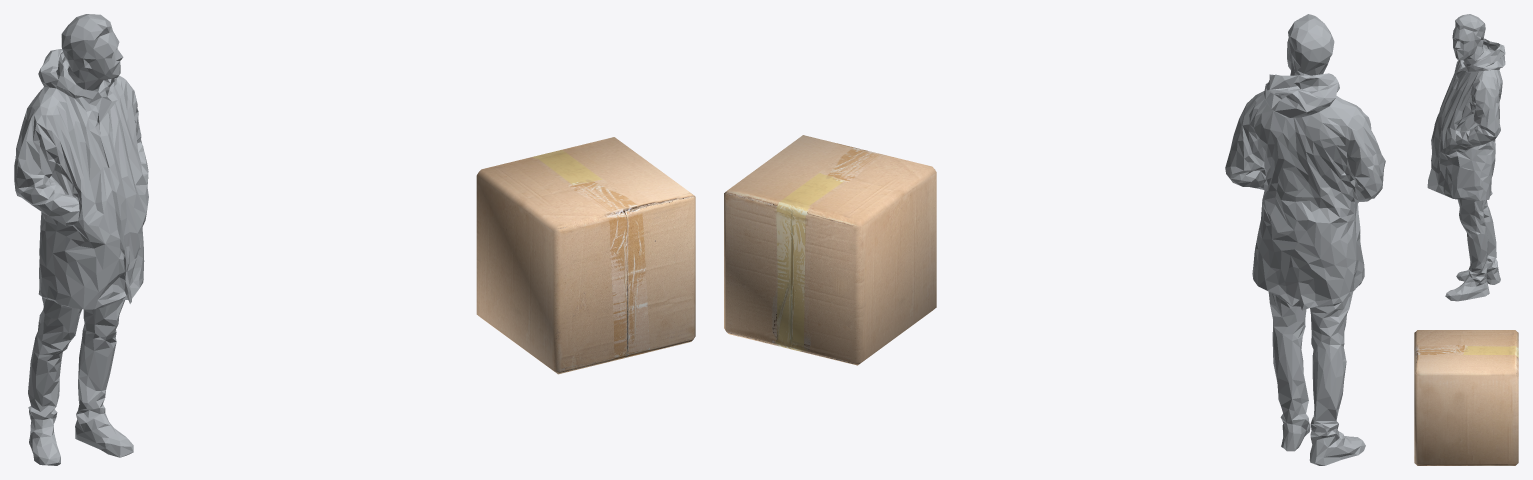
The model's file is cardboard_box_01.glb.
3 renders of one model, left to right at view 1: azimuth 30°, elevation 25°; view 2: azimuth 150°, elevation 25°; view 3: azimuth 270°, elevation 25°, orthographic. The views are drawn at different scales.
Visible parts, largest first — view 1: Box_Material.001_0, Lowpoly Male Standing; view 2: Box_Material.001_0, Lowpoly Male Standing; view 3: Box_Material.001_0, Lowpoly Male Standing.
Part boxes in pixels (x1,y1,x2,y2): Box_Material.001_0: [476, 137, 695, 374]; Lowpoly Male Standing: [14, 14, 148, 465]; Box_Material.001_0: [724, 135, 936, 365]; Lowpoly Male Standing: [1225, 14, 1385, 465]; Box_Material.001_0: [1414, 330, 1518, 465]; Lowpoly Male Standing: [1427, 14, 1505, 301].
Bounding box in the file's own units: 2.82 × 1.83 × 0.6265.
2 materials, 1 textured.
